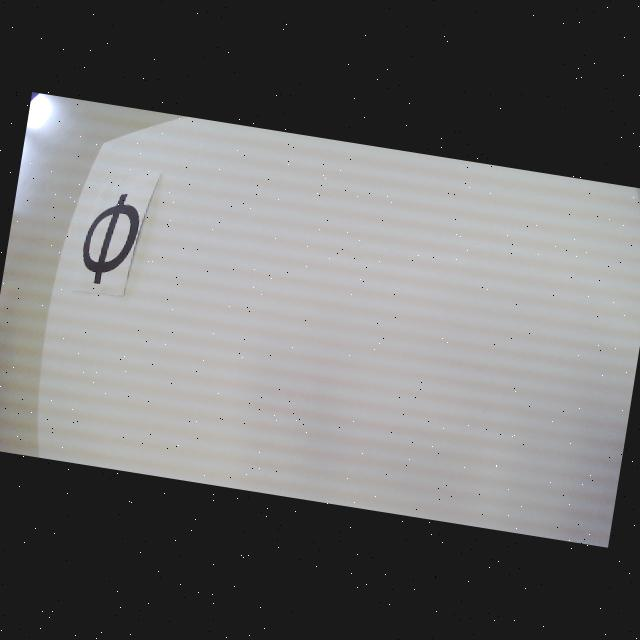PHI: (78, 188, 144, 290)
